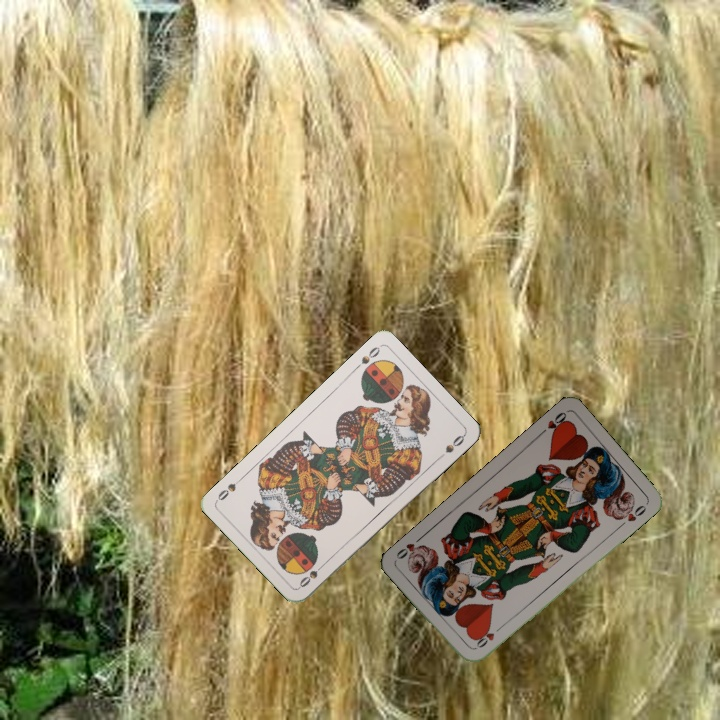HO: (535, 408, 571, 438), (471, 622, 505, 652)
SO: (295, 559, 328, 590), (350, 342, 383, 373)
